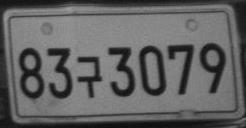0: (137, 44, 166, 95)
3: (107, 46, 136, 97), (46, 47, 73, 99)
7: (167, 44, 194, 95)
8: (17, 46, 45, 98)
9: (198, 42, 227, 95)
구: (76, 55, 103, 98)
